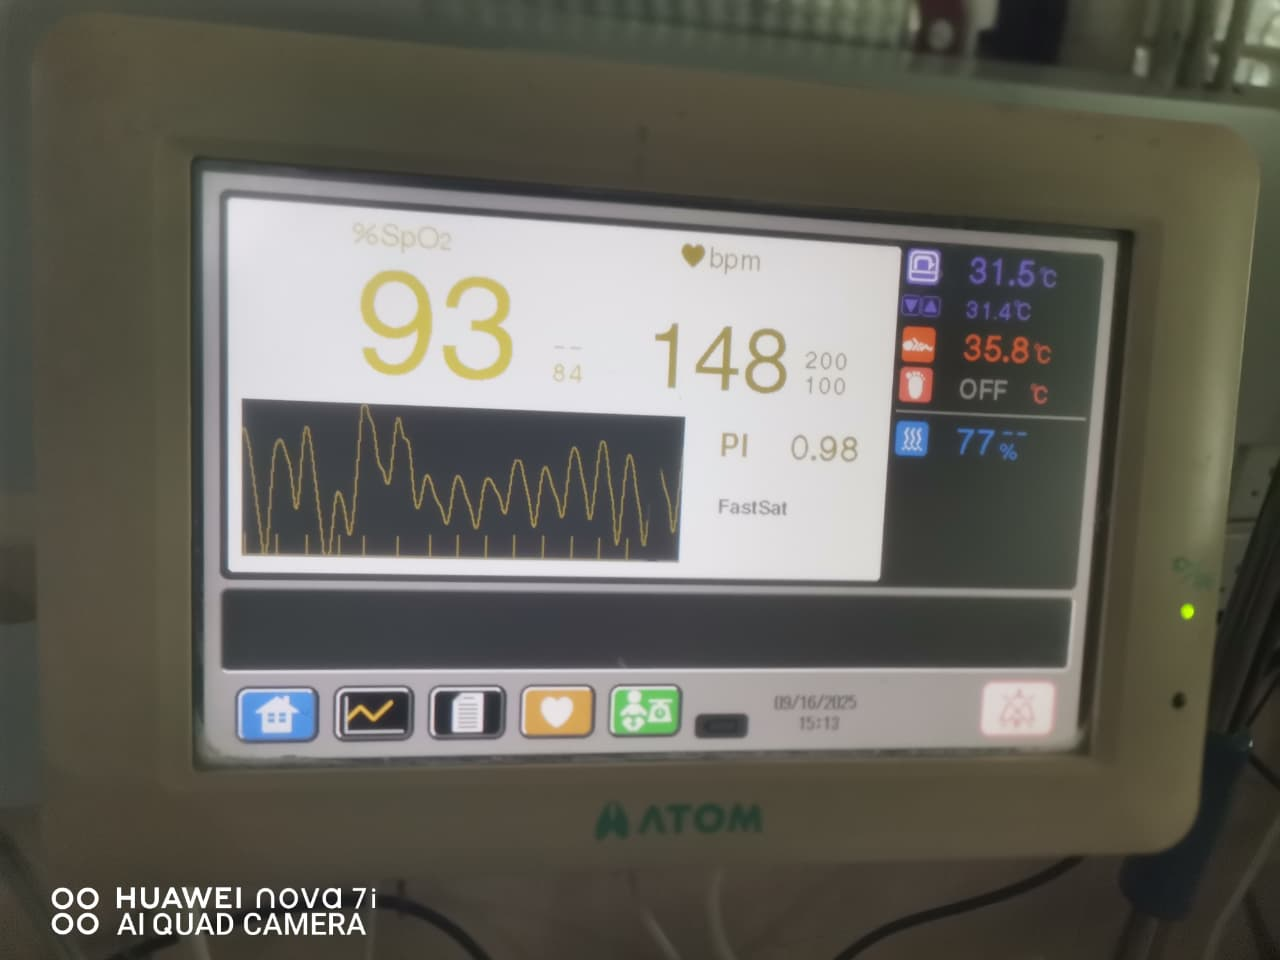heart_rate_value: (636, 304, 801, 416)
humidity_value: (939, 416, 999, 462)
skin_temp_value: (952, 321, 1034, 372)
spo2_value: (345, 257, 538, 401)
